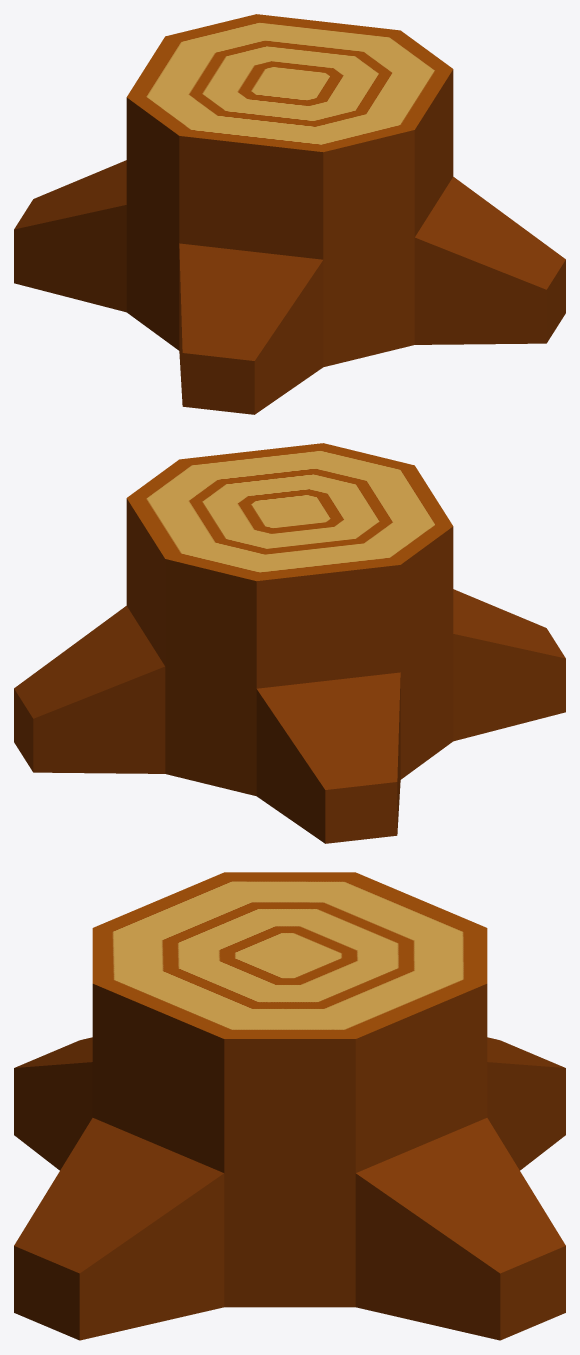
The model's file is Stump.fbx.
3 views of the same model, one above another, from view 1: azimuth 30°, elevation 25°; view 2: azimuth 150°, elevation 25°; view 3: azimuth 270°, elevation 25° (orthographic). The views are drawn at different scales.
Visible parts, largest first — view 1: Stump_01; view 2: Stump_01; view 3: Stump_01.
Part boxes in pixels (x1,y1,x2,y2): Stump_01: (14,14,565,414); Stump_01: (14,443,565,843); Stump_01: (14,872,565,1340).
Size of the model in its own units: 11.19 by 6 by 11.19.
Materials: 1 (1 with a texture image).
